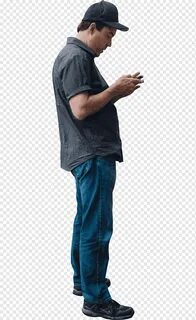awake: (52, 1, 144, 320)
